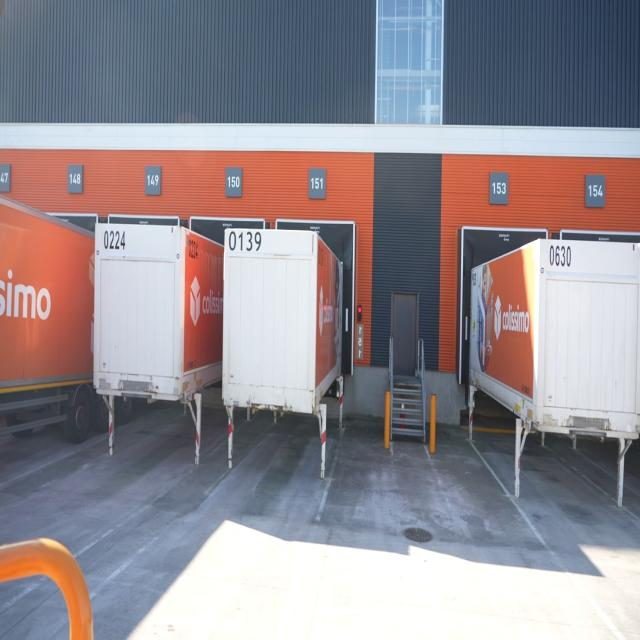Code: (227, 229, 262, 256), (548, 238, 574, 274), (100, 226, 128, 253)
